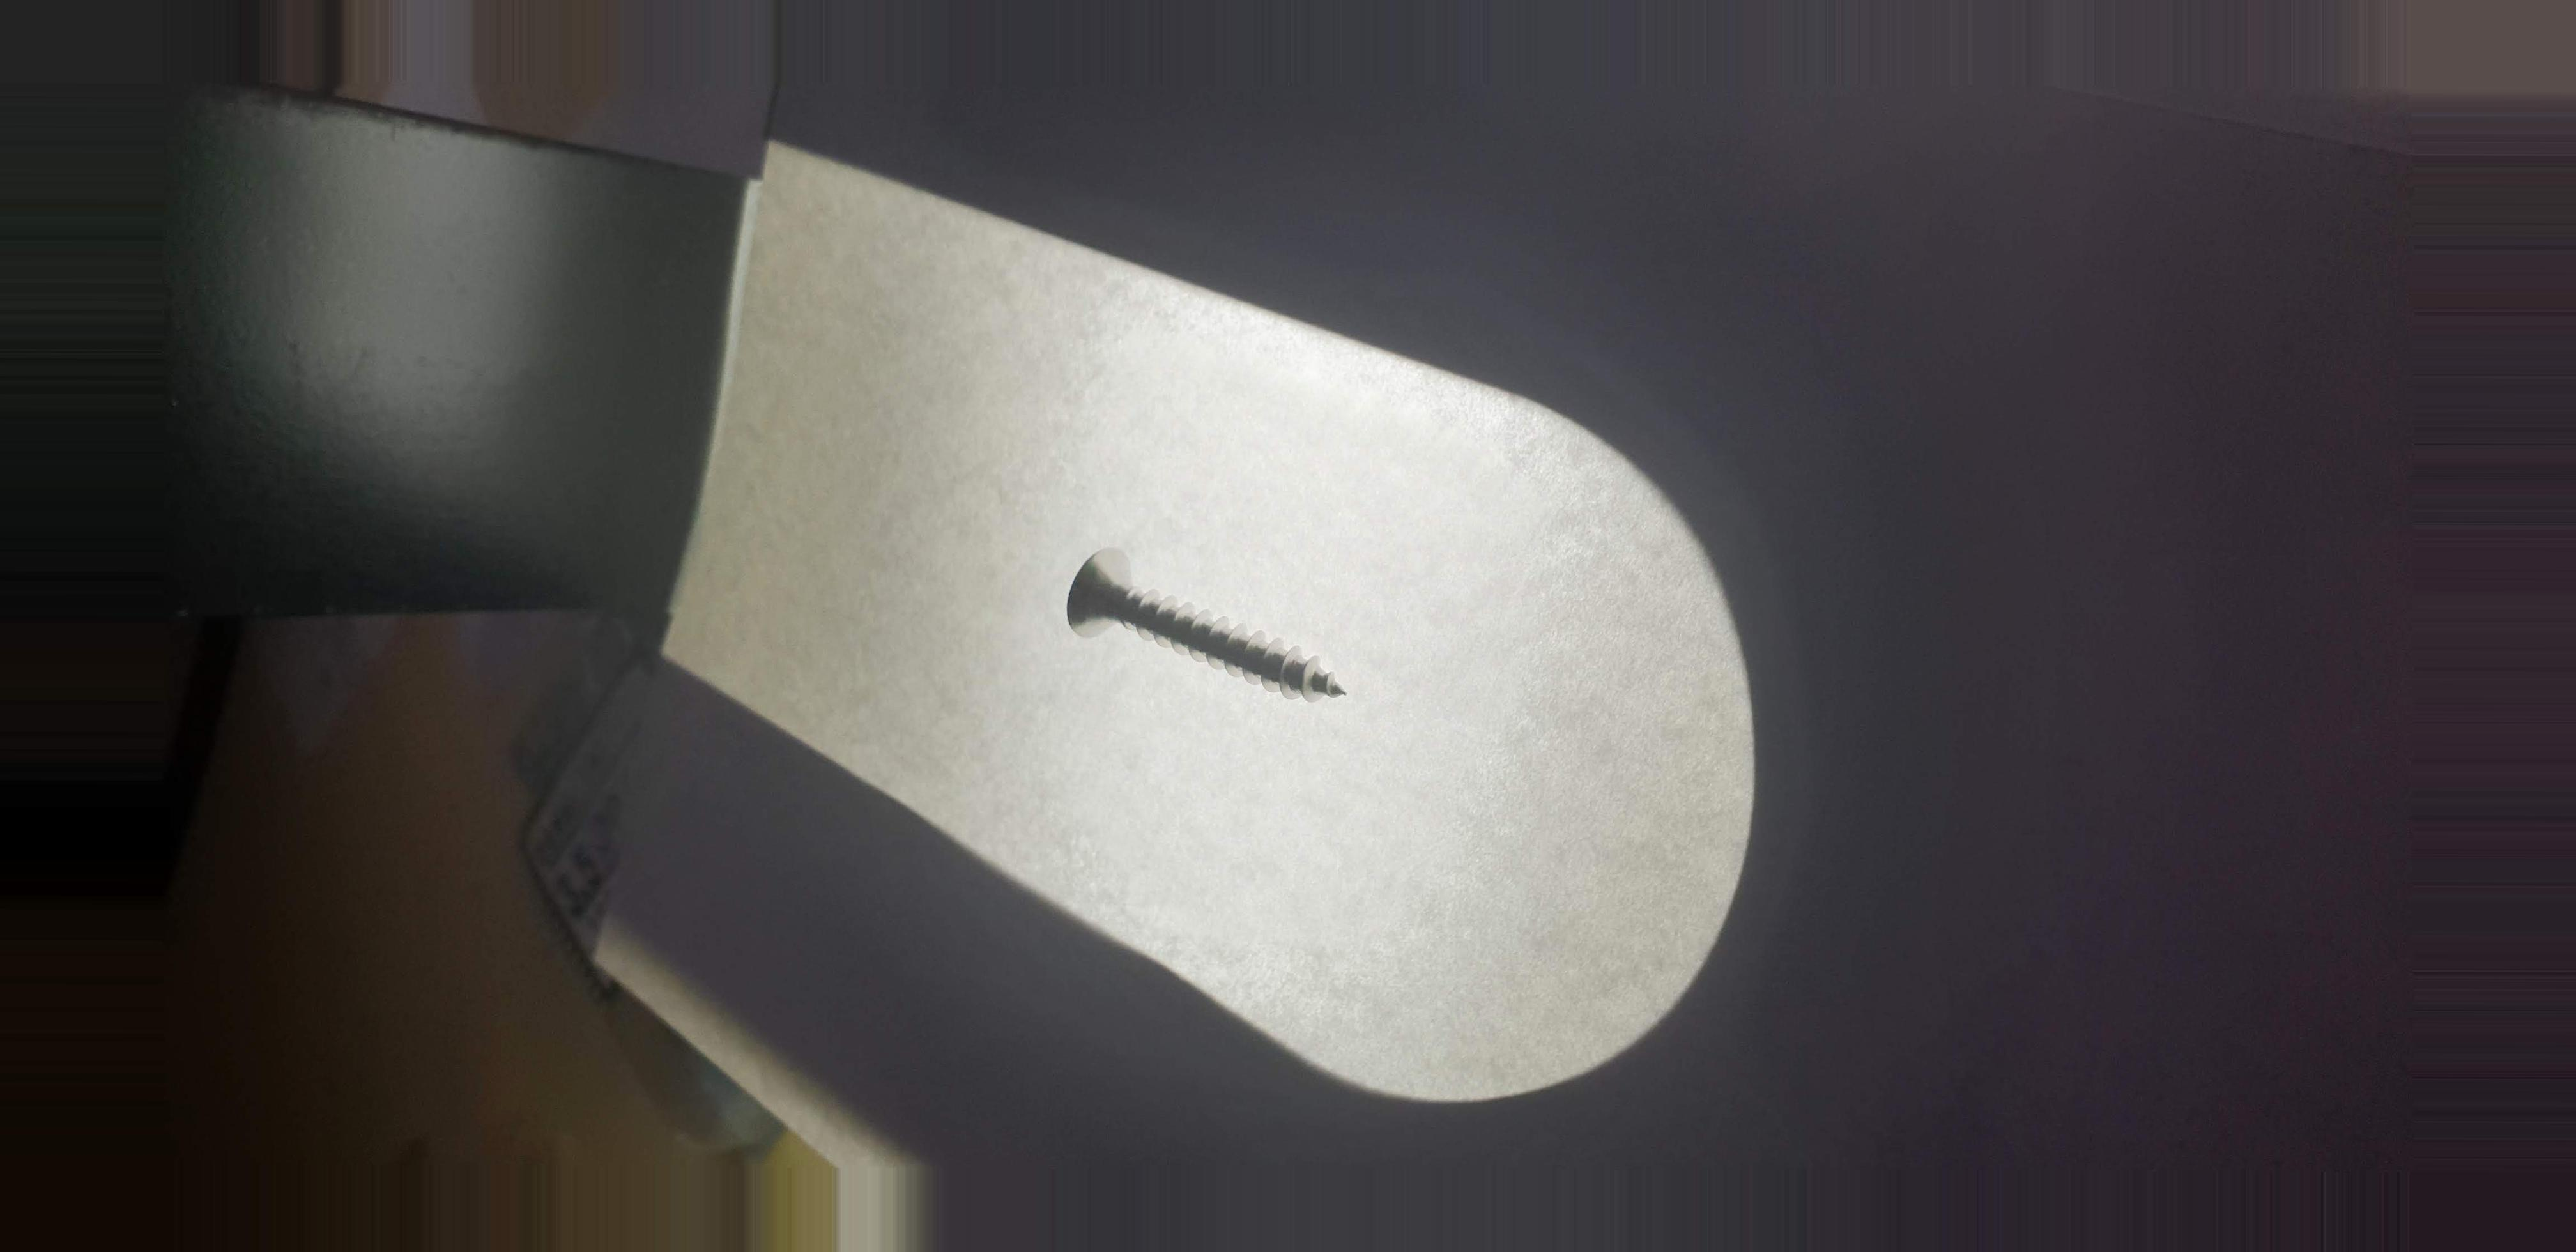S004: (1042, 506, 1375, 746)
